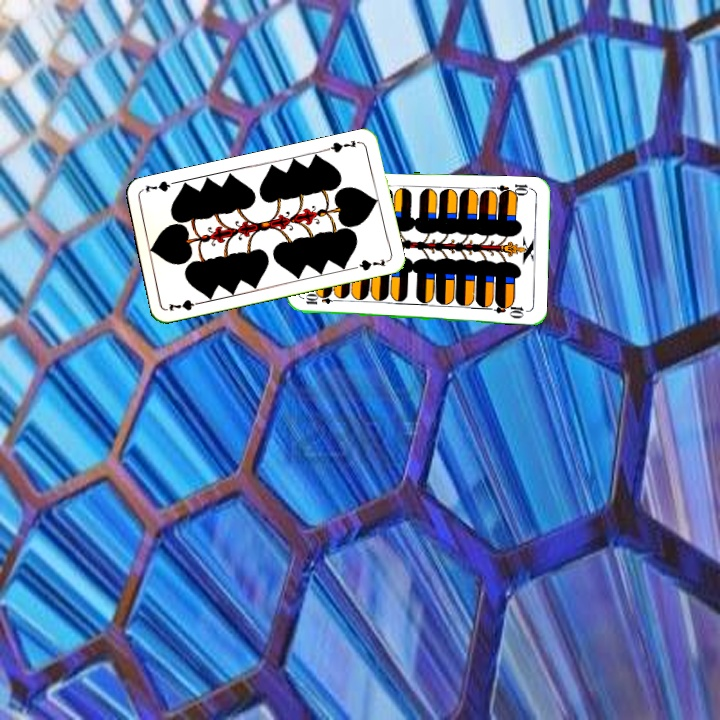E10: (494, 180, 535, 199), (302, 293, 342, 307)
G7: (165, 296, 205, 314), (323, 136, 359, 155)
